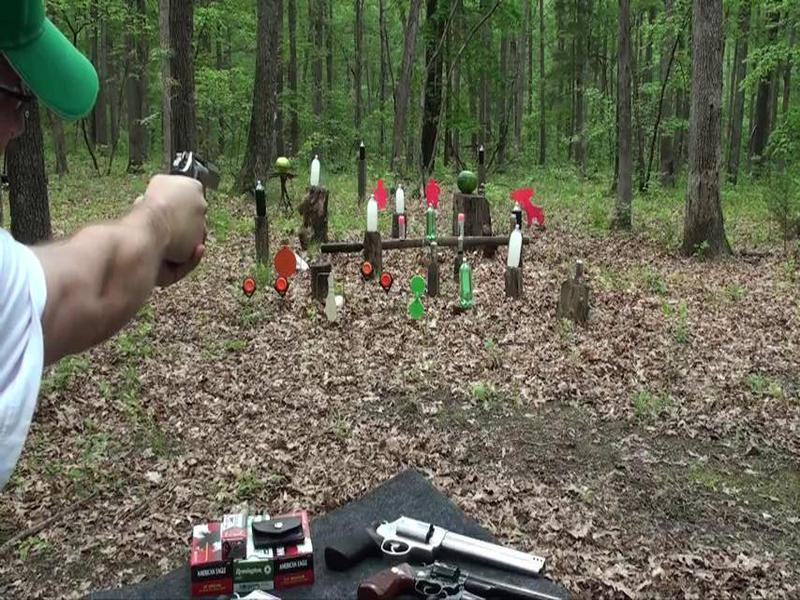Revolver: (163, 150, 232, 204)
